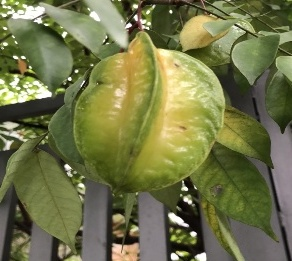Khe: (73, 29, 233, 196)
